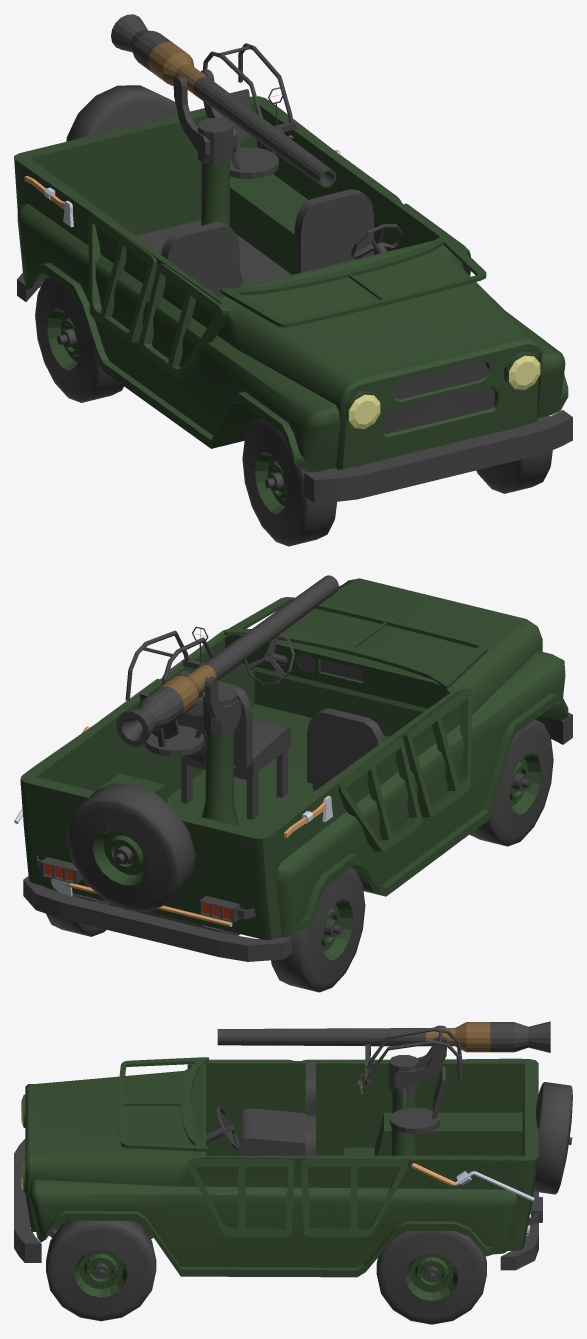
File: uaz469.glb
3 renders of one model, top to bottom at view 1: azimuth 30°, elevation 25°; view 2: azimuth 150°, elevation 25°; view 3: azimuth 270°, elevation 25°, orthographic. The views are drawn at different scales.
Visible parts, largest first — view 1: ZISSteering_0; view 2: ZISSteering_0; view 3: ZISSteering_0.
Part boxes in pixels (left/top/right/bottom): ZISSteering_0: left=14, top=14, right=572, bottom=546; ZISSteering_0: left=14, top=575, right=572, bottom=992; ZISSteering_0: left=14, top=1021, right=572, bottom=1324.
Bounding box in the file's own units: 2.62 × 2.63 × 5.24.
1 material, 1 textured.
